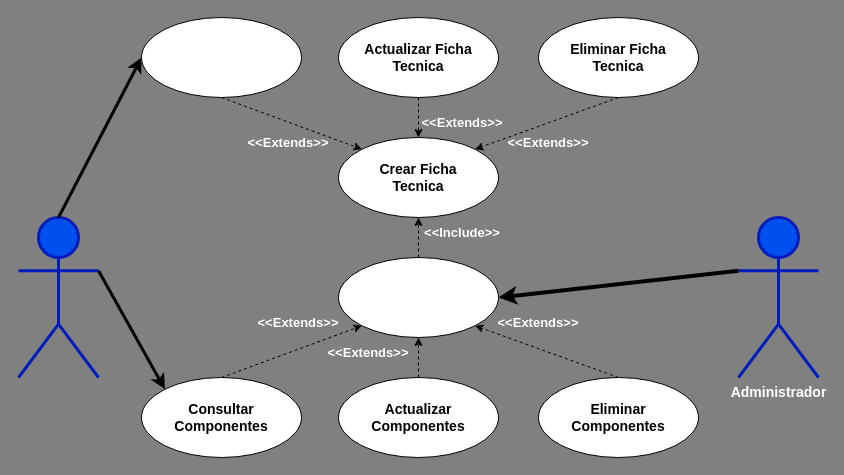
This 844x475 diagram has some shape labels left out. Each missing label, with the box of its shape:
Agregar Componentes: (338, 256, 498, 338)
Cliente: (16, 216, 100, 378)
Consultar Ficha Tecnica: (140, 16, 302, 98)
